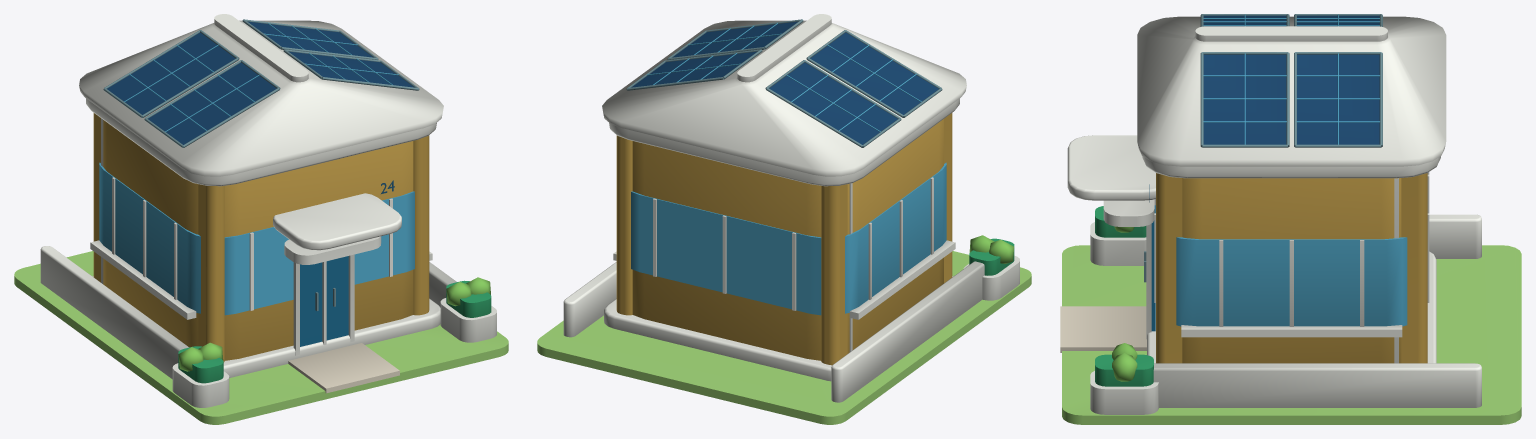
Rendered from house-cream-low.glb.
3 renders of one model, left to right at view 1: azimuth 30°, elevation 25°; view 2: azimuth 150°, elevation 25°; view 3: azimuth 270°, elevation 25°, orthographic. The views are drawn at different scales.
Visible parts, largest first — view 1: house footing, house shell, continuous blue glazing, residential garden, inset solar roof module, solar module frame, recessed entrance, front walk, planter foliage, shrub tip; view 2: house footing, house shell, continuous blue glazing, residential garden, inset solar roof module, solar module frame, shrub tip, planter foliage; view 3: house footing, house shell, residential garden, continuous blue glazing, inset solar roof module, front walk, solar module frame, planter foliage, shrub tip, recessed entrance.
Part boxes in pixels (x1,y1,x2,y2): house footing: (40, 14, 496, 407); house shell: (93, 113, 429, 362); continuous blue glazing: (99, 23, 414, 315); residential garden: (14, 251, 508, 424); inset solar roof module: (107, 21, 414, 144); solar module frame: (103, 19, 419, 310); recessed entrance: (300, 256, 348, 346); front walk: (288, 343, 399, 393); planter foliage: (178, 280, 491, 383); shrub tip: (178, 277, 490, 371); house footing: (563, 14, 1019, 402); house shell: (616, 113, 952, 365); continuous blue glazing: (631, 23, 946, 315); residential garden: (537, 251, 1031, 424); inset solar roof module: (631, 21, 938, 144); solar module frame: (626, 19, 942, 147); shrub tip: (969, 235, 1013, 263); planter foliage: (969, 238, 1014, 275); house footing: (1067, 16, 1481, 414); house shell: (1156, 173, 1427, 363); residential garden: (1062, 245, 1521, 424); continuous blue glazing: (1176, 14, 1407, 326); inset solar roof module: (1203, 15, 1379, 144); front walk: (1060, 306, 1146, 352); solar module frame: (1144, 14, 1382, 282); planter foliage: (1095, 206, 1153, 386); shrub tip: (1112, 226, 1137, 381); recessed entrance: (1151, 205, 1155, 331).
Size of the model in its own units: 2.73 by 2.28 by 3.09.
